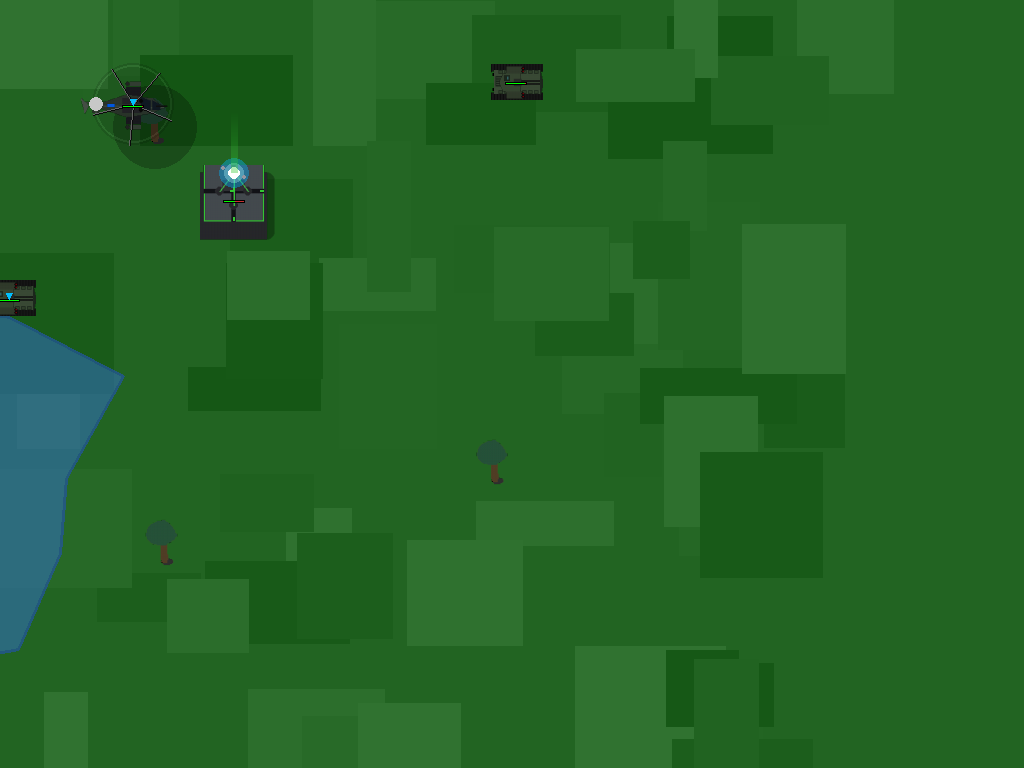Lake: (0, 307, 123, 675)
ResearchCenter: (195, 159, 274, 238)
TerminatorIFV: (0, 275, 45, 320), (494, 59, 539, 104)
WZ10: (100, 72, 164, 136)
